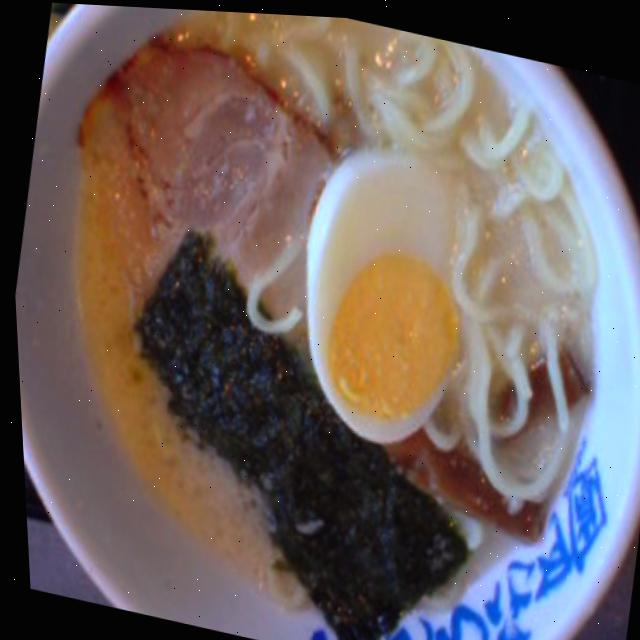面条主食: (108, 4, 640, 640)
